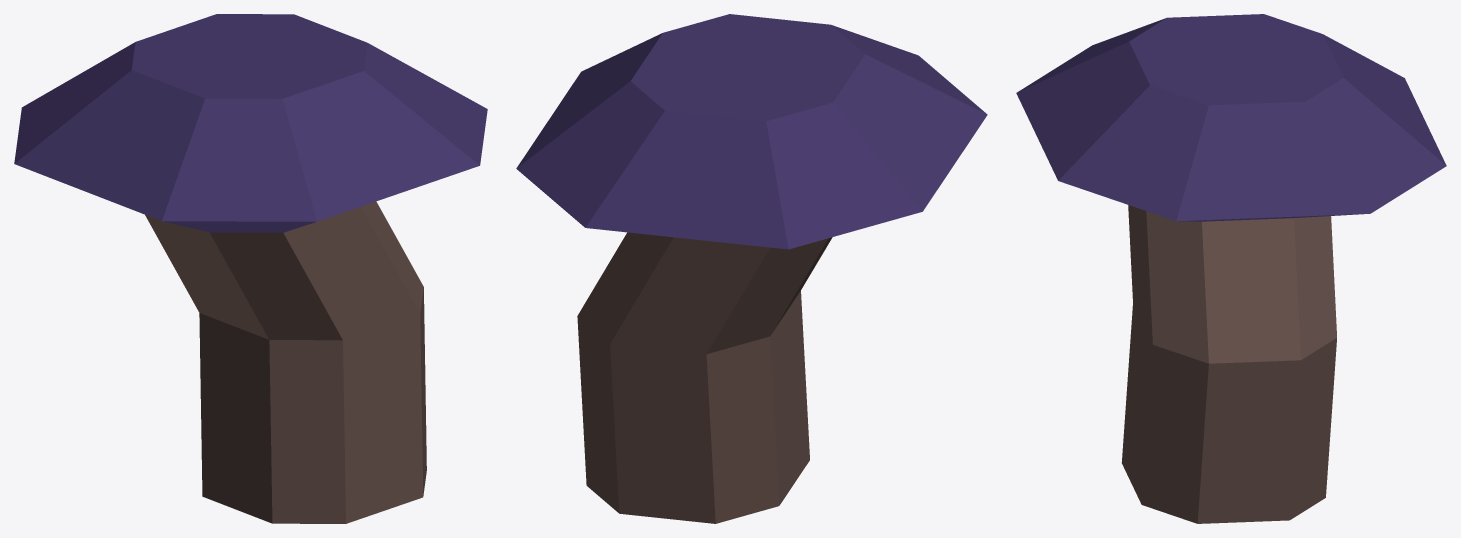
File: mogu.fbx
3 renders of one model, left to right at view 1: azimuth 30°, elevation 25°; view 2: azimuth 150°, elevation 25°; view 3: azimuth 270°, elevation 25°, orthographic. The views are drawn at different scales.
Parts seen in each view (by area): view 1: Base; view 2: Base; view 3: Base.
Boxes of the visible parts, x1,y1,x2,y2 form: Base: [14, 14, 487, 523]; Base: [516, 14, 987, 523]; Base: [1016, 14, 1446, 523].
Bounding box in the file's own units: 10.03 × 10.47 × 10.01.
